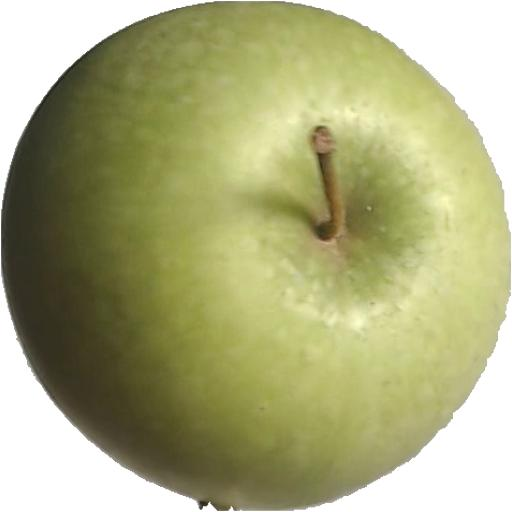apple-unripe: (0, 0, 509, 512)
